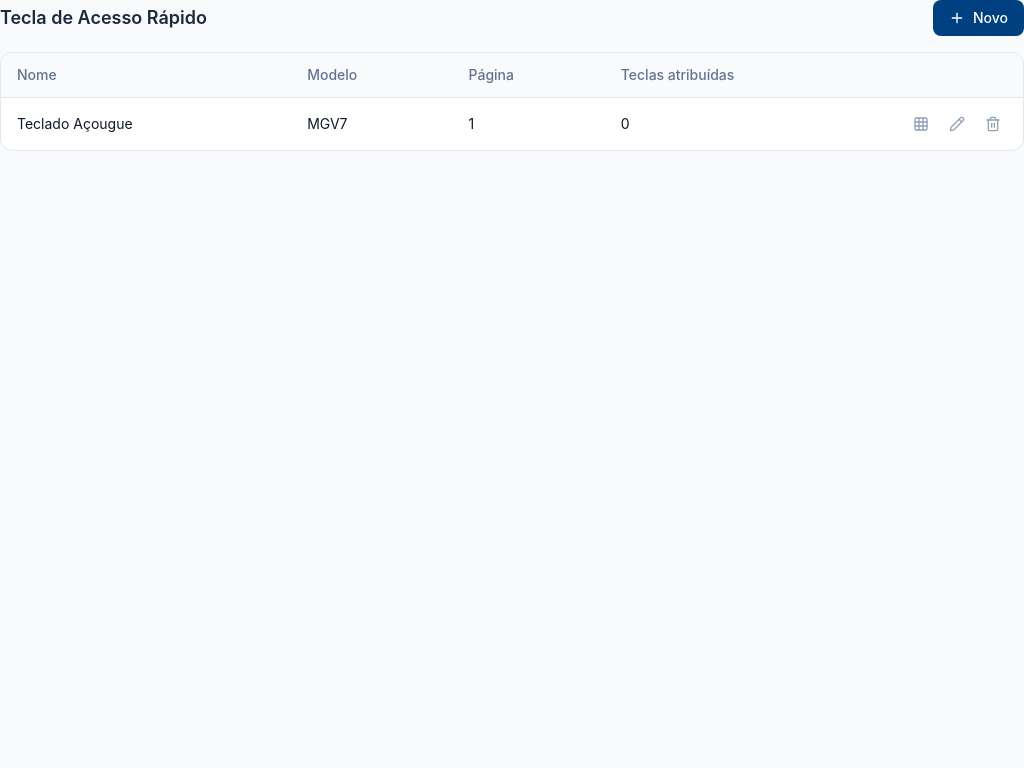
Test case: Teclas de Acesso Rápido — busca de produto › filtra por código e por nome
The image size is (1024, 768).
Click the button titled "Editar teclado": (921,124) [907,110,935,138]
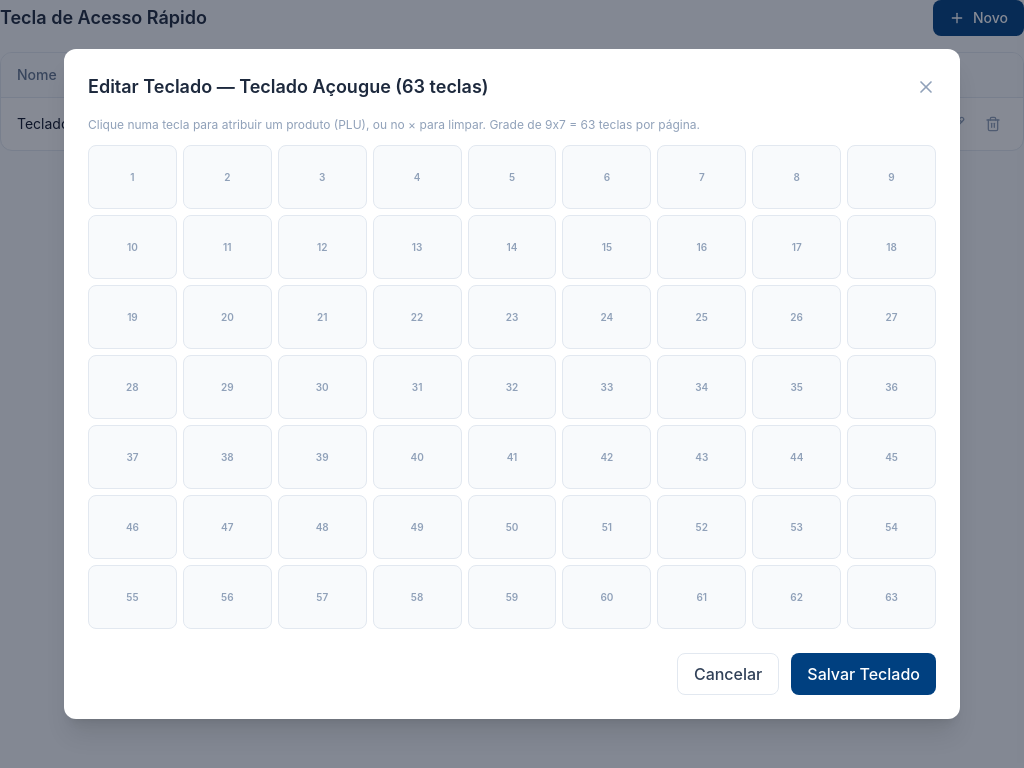
Click the button titled "Tecla vazia": (132,177) [88,145,177,209]
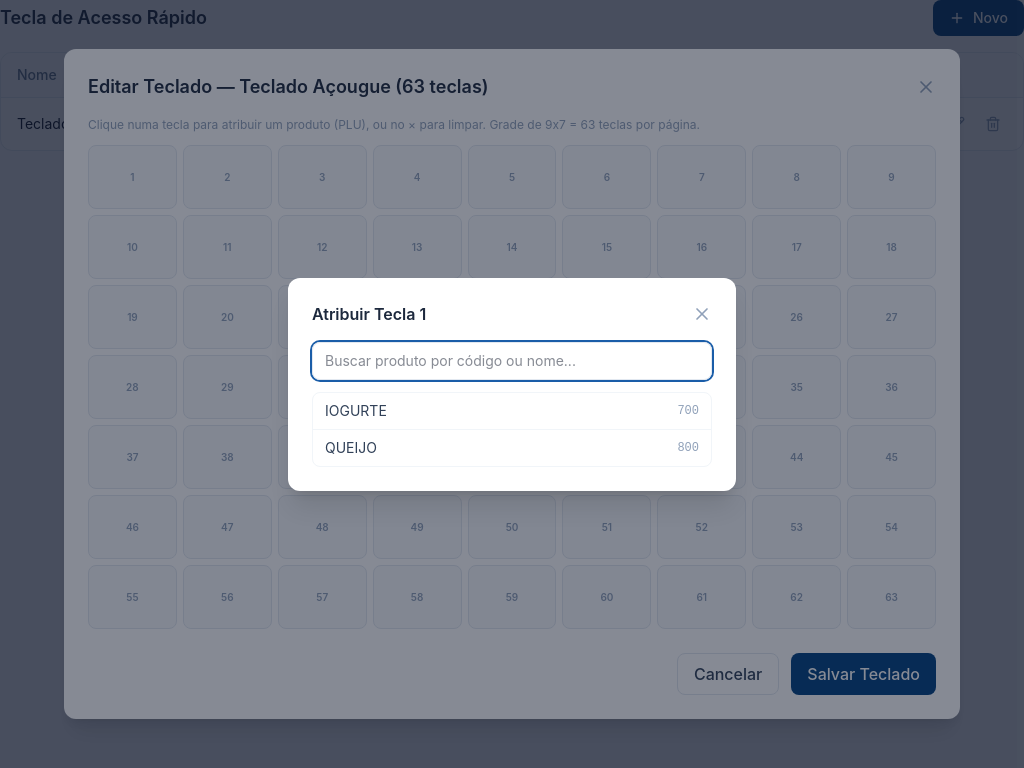
In the field with placeholder "Buscar produto por código ou nome...": (512,360) [312,342,712,380], type "800"
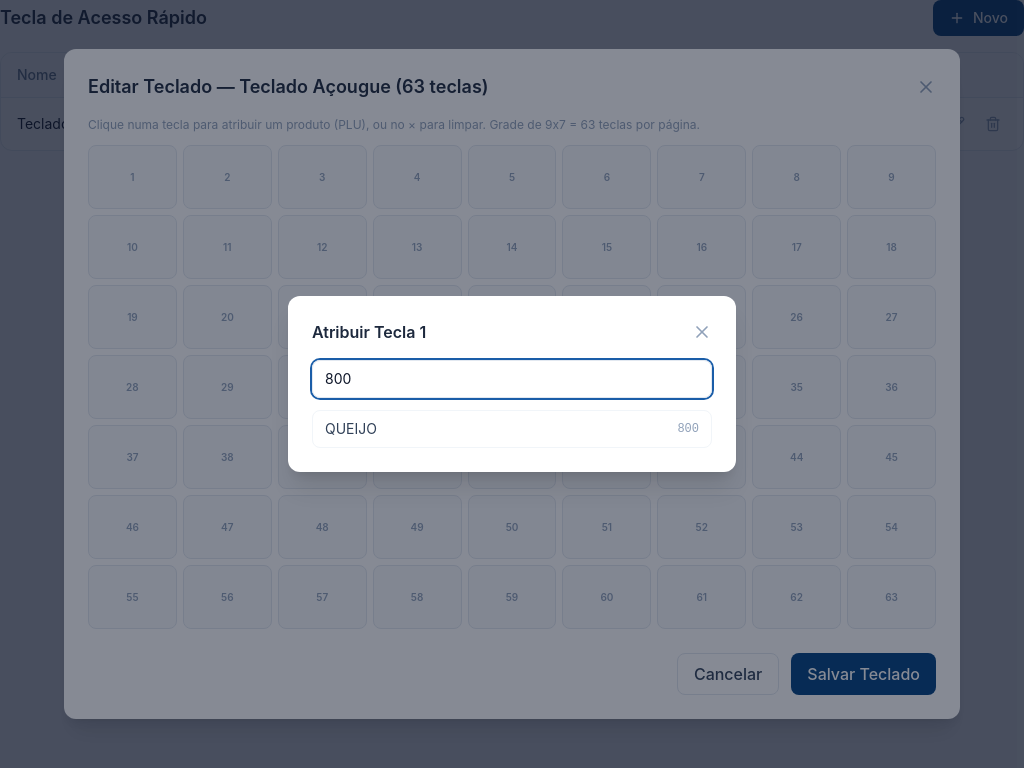
Expected: the text "QUEIJO" is shown, [325,419,377,439]
Expected: the button "IOGURTE" is gone
